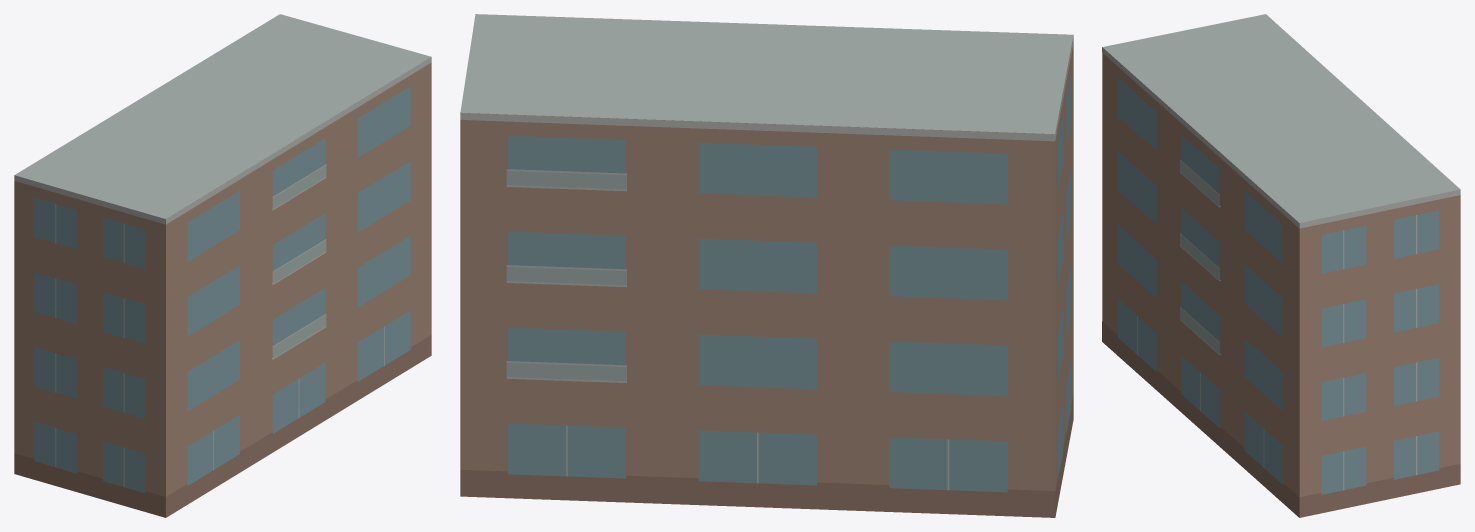
File: survey-upis-32754876.glb
3 renders of one model, left to right at view 1: azimuth 30°, elevation 25°; view 2: azimuth 150°, elevation 25°; view 3: azimuth 270°, elevation 25°, orthographic. The views are drawn at different scales.
Parts seen in each view (by area): view 1: survey-upis-32754876.tmp; view 2: survey-upis-32754876.tmp; view 3: survey-upis-32754876.tmp.
Part boxes in pixels (x1,y1,x2,y2): survey-upis-32754876.tmp: [14, 14, 431, 517]; survey-upis-32754876.tmp: [460, 14, 1073, 517]; survey-upis-32754876.tmp: [1102, 14, 1460, 517].
Bounding box in the file's own units: 19.94 × 13.1 × 14.45.
